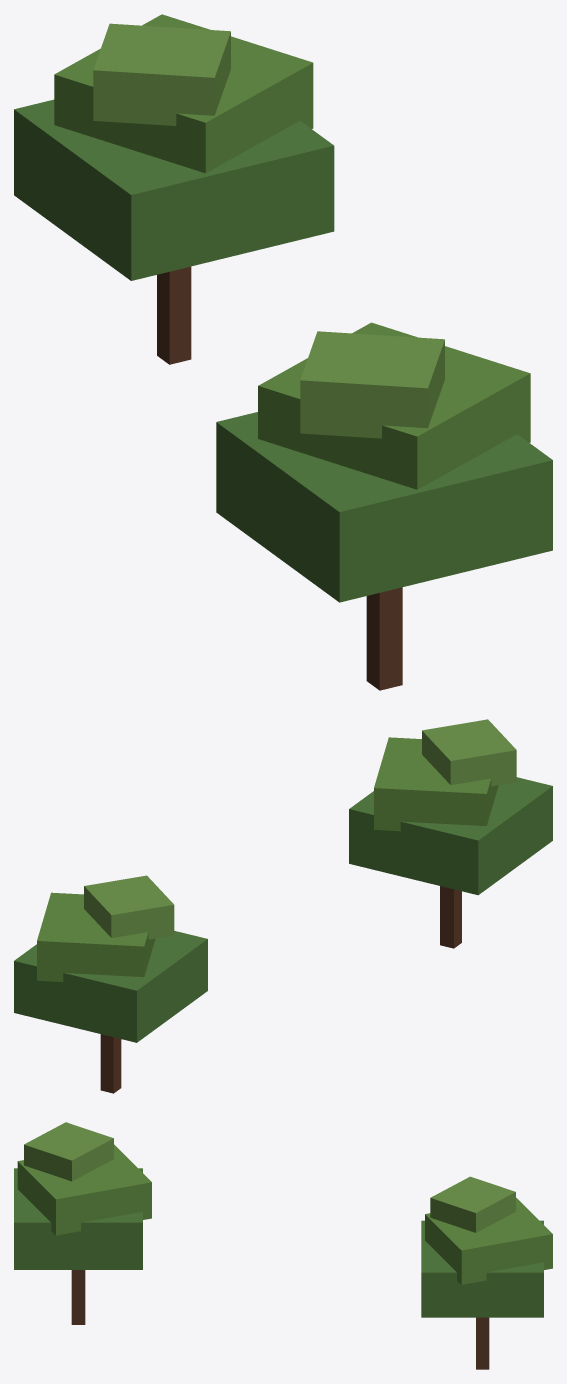
The model's file is structure.glb.
3 renders of one model, top to bottom at view 1: azimuth 30°, elevation 25°; view 2: azimuth 150°, elevation 25°; view 3: azimuth 270°, elevation 25°, orthographic. The views are drawn at different scales.
Visible parts, largest first — view 1: Box2, Box6, Box3, Box7, Box4, Box8, Box1, Box5; view 2: Box2, Box6, Box3, Box7, Box4, Box8, Box1, Box5; view 3: Box2, Box3, Box6, Box7, Box4, Box8, Box1, Box5.
Part boxes in pixels (x1,y1,x2,y2): Box2: (216, 412, 552, 602); Box6: (14, 99, 334, 280); Box3: (258, 322, 530, 489); Box7: (54, 14, 313, 173); Box4: (300, 331, 444, 438); Box8: (93, 23, 230, 125); Box1: (366, 587, 402, 690); Box5: (157, 266, 191, 364); Box2: (349, 777, 552, 895); Box6: (14, 931, 207, 1042); Box3: (374, 737, 498, 831); Box7: (37, 892, 155, 981); Box4: (422, 719, 516, 786); Box8: (84, 875, 174, 939); Box1: (440, 886, 461, 948); Box5: (100, 1034, 121, 1093); Box2: (14, 1168, 142, 1269); Box3: (17, 1144, 151, 1235); Box6: (421, 1220, 543, 1317); Box7: (425, 1198, 552, 1284); Box4: (24, 1122, 113, 1181); Box8: (430, 1176, 515, 1232); Box1: (71, 1270, 85, 1324); Box5: (476, 1317, 489, 1369).
Size of the model in its own units: 7.61 by 6.07 by 16.91.
